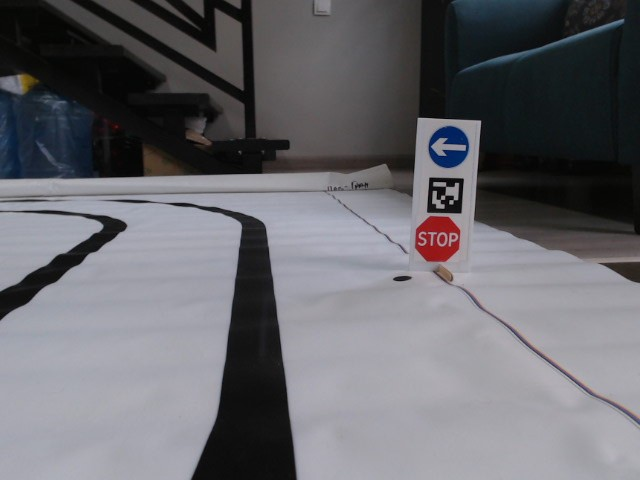Stop: (414, 215, 464, 263)
